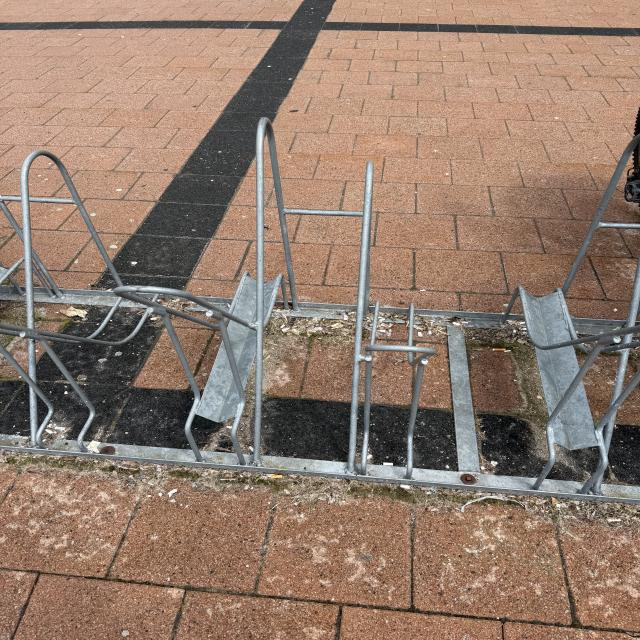Bicycle Rack: (1, 115, 640, 506)
